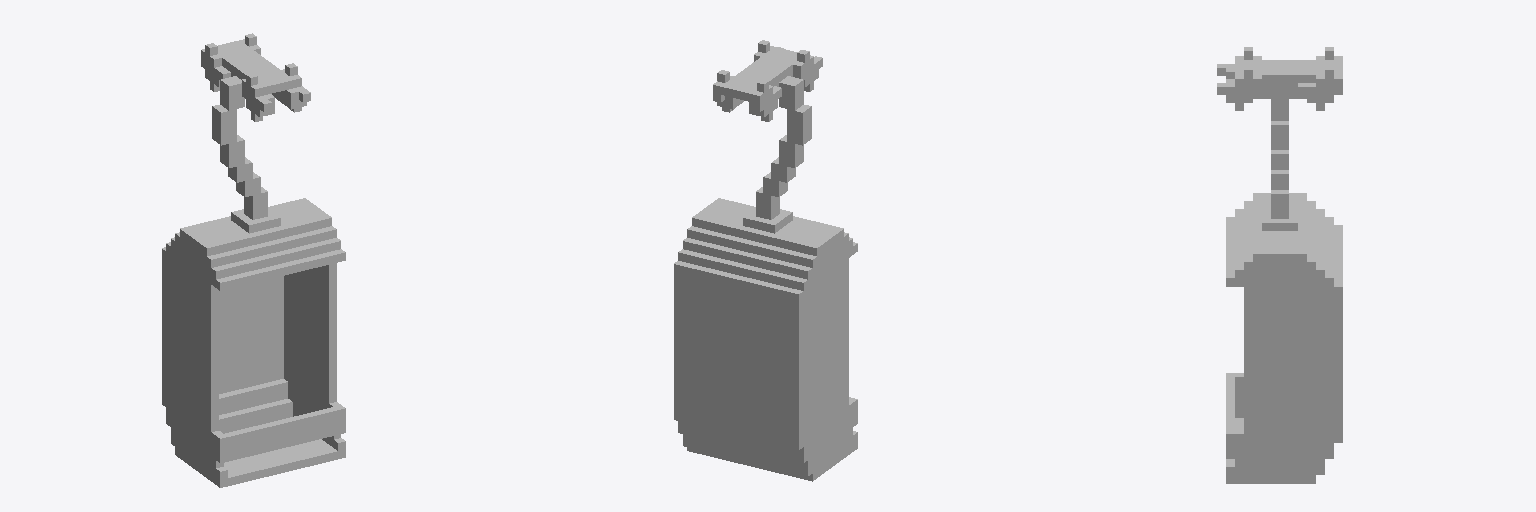
File: chair_lift_seat.obj
The picture shows the model from 3 angles: view 1: azimuth 30°, elevation 25°; view 2: azimuth 150°, elevation 25°; view 3: azimuth 270°, elevation 25°; orthographic projection.
Parts seen in each view (by area): view 1: node_0_node_0_2_0, node_0_1_0.001; view 2: node_0_node_0_2_0, node_0_1_0.001; view 3: node_0_node_0_2_0, node_0_1_0.001.
Boxes of the visible parts, x1=… form: node_0_node_0_2_0: x1=162, y1=33, x2=345, y2=487; node_0_1_0.001: x1=166, y1=242, x2=324, y2=452; node_0_node_0_2_0: x1=674, y1=40, x2=857, y2=481; node_0_1_0.001: x1=804, y1=248, x2=843, y2=455; node_0_node_0_2_0: x1=1217, y1=47, x2=1342, y2=483; node_0_1_0.001: x1=1253, y1=270, x2=1333, y2=458.
Size of the model in its own units: 10 by 30 by 8.75.